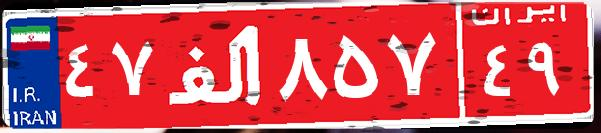4: (57, 26, 110, 107), (475, 38, 525, 113)
5: (330, 28, 385, 110)
7: (385, 28, 445, 110), (110, 28, 158, 105)
8: (273, 28, 330, 110)
9: (525, 38, 570, 115)
الف: (158, 15, 273, 115)
